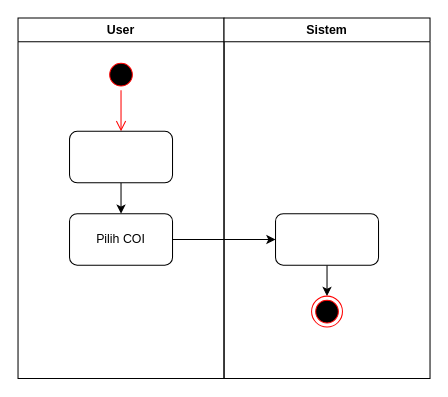
The diagram is 448 pixels wide and 397 high, and some of its shapes have lost their labels. Here are the shapes that lost their labels. From the top down, the centre of each, then its label:
At point 120,156: "Pilih Regulatory Compliance pada sidebar".
At point 326,239: "Menampilkan halaman COI".
